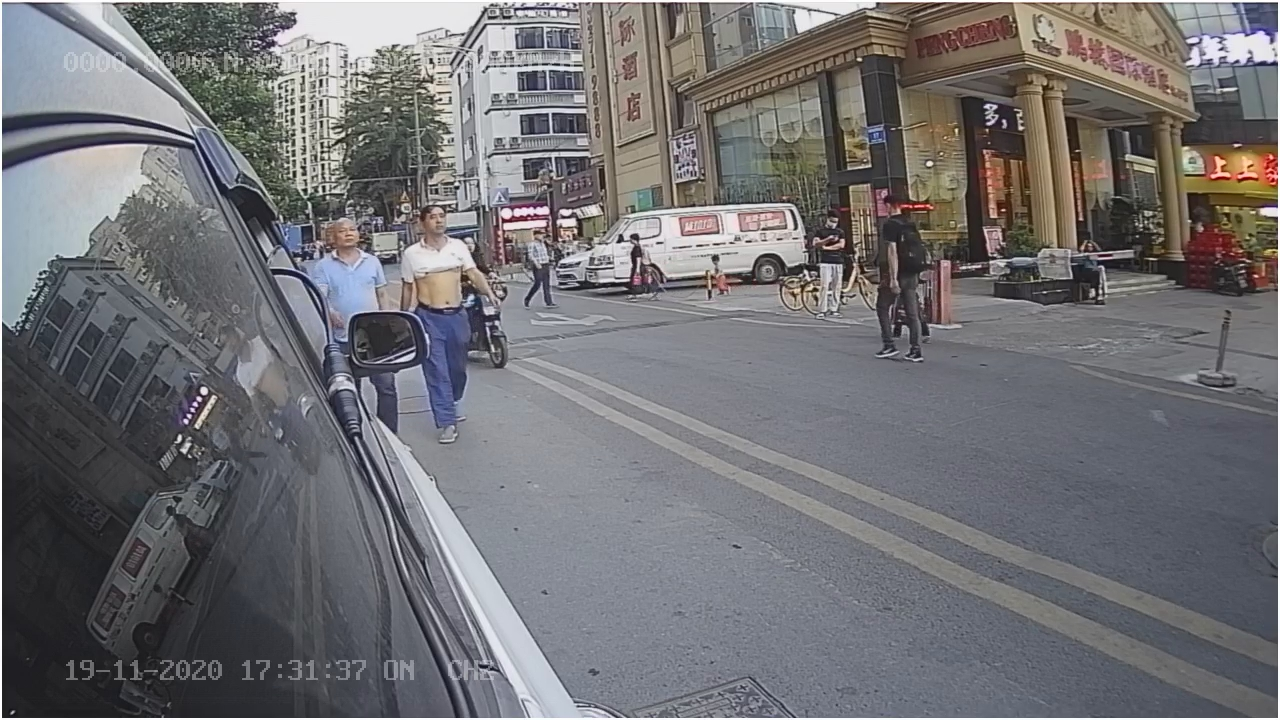person: (402, 205, 474, 315)
